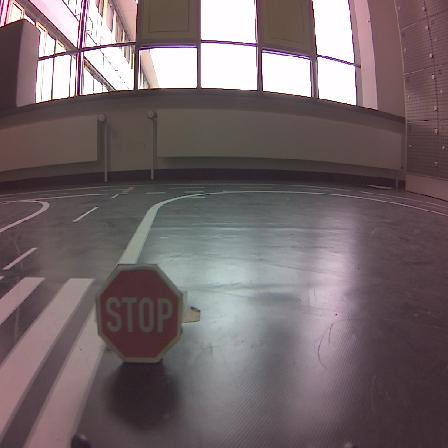STOP: (96, 265, 186, 362)
